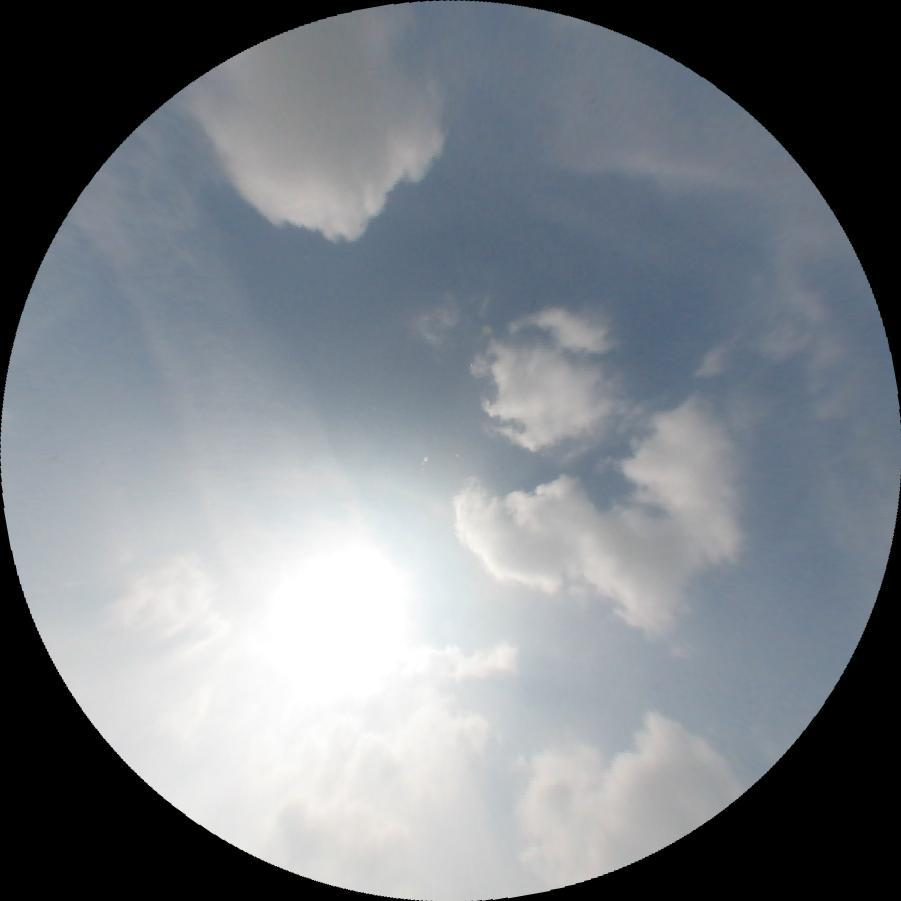sun: (254, 538, 416, 690)
